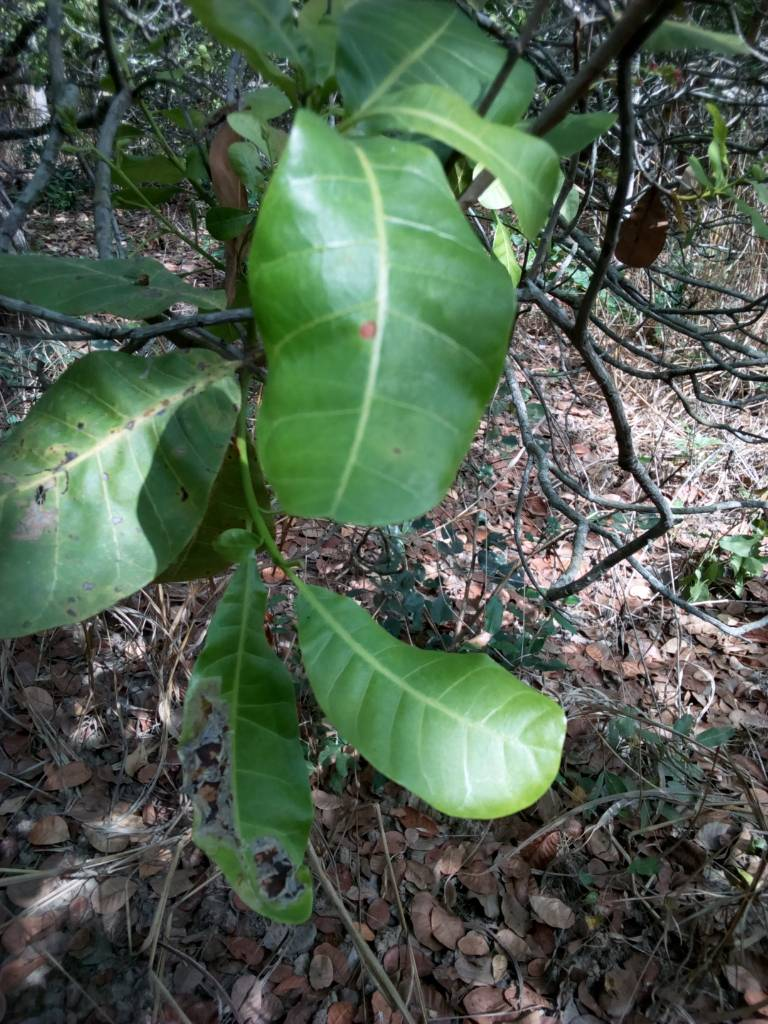Anthracnose: (1, 347, 235, 627), (175, 588, 316, 919)
